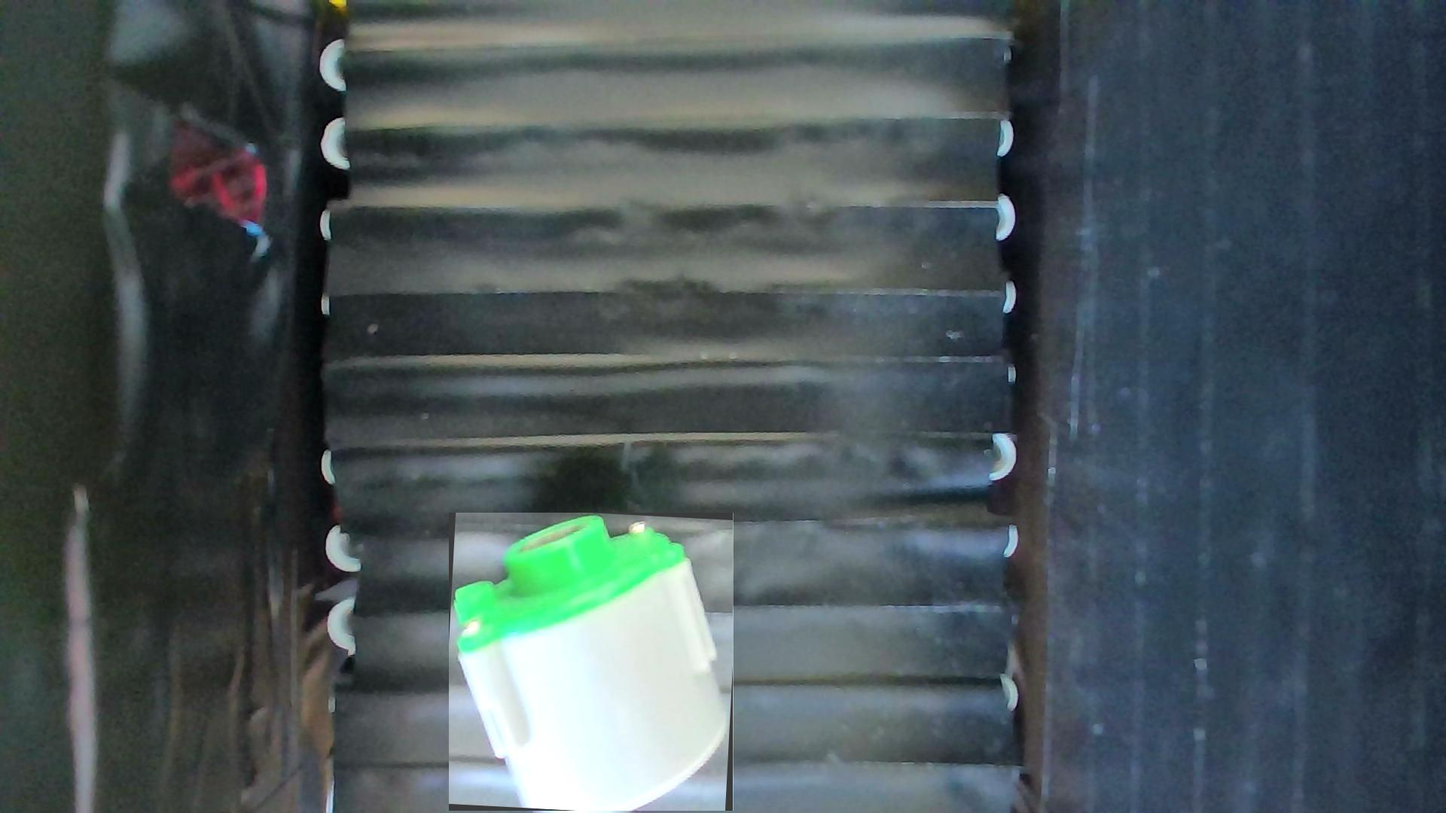cartridge: (449, 513, 734, 811)
